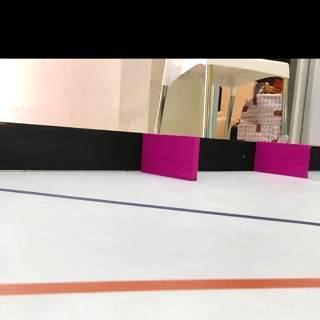xparking: (142, 136, 198, 173), (258, 144, 310, 172)
